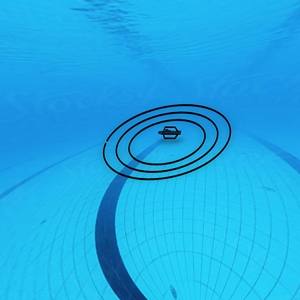circle: (101, 101, 228, 177)
submarine: (160, 126, 180, 140)
